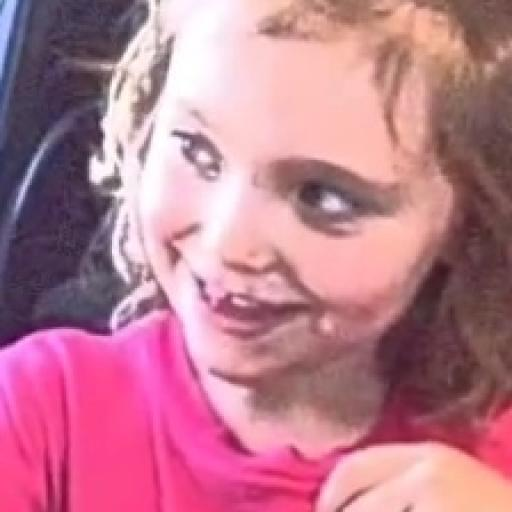Autism: (83, 0, 512, 482)
